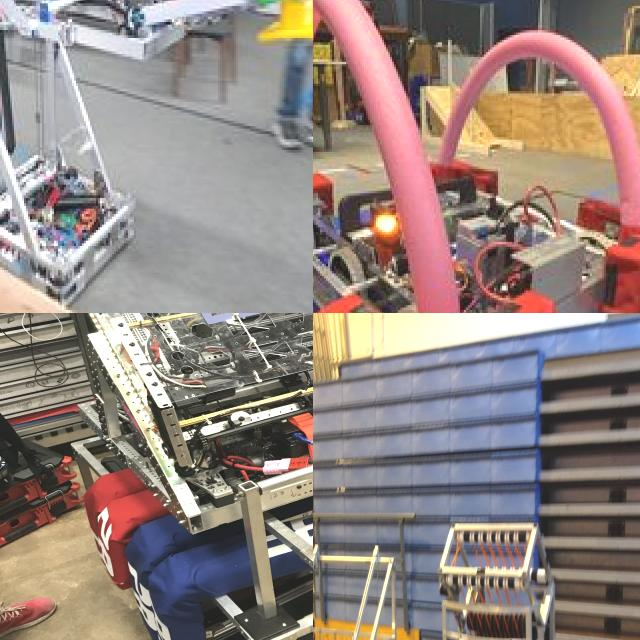FRC-Robots: (313, 0, 640, 313), (6, 313, 313, 640), (0, 0, 148, 313), (389, 508, 619, 640), (313, 539, 421, 640)
